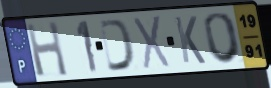1: (75, 18, 100, 76)
D: (98, 17, 137, 74)
H: (24, 19, 71, 79)
K: (172, 15, 208, 66)
O: (202, 11, 244, 66)
X: (131, 13, 172, 71)
